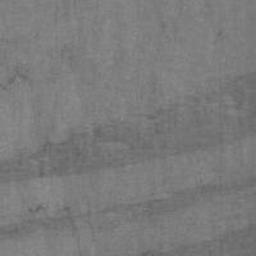Water spot: (0, 67, 256, 186), (0, 172, 255, 239), (129, 224, 255, 256)
